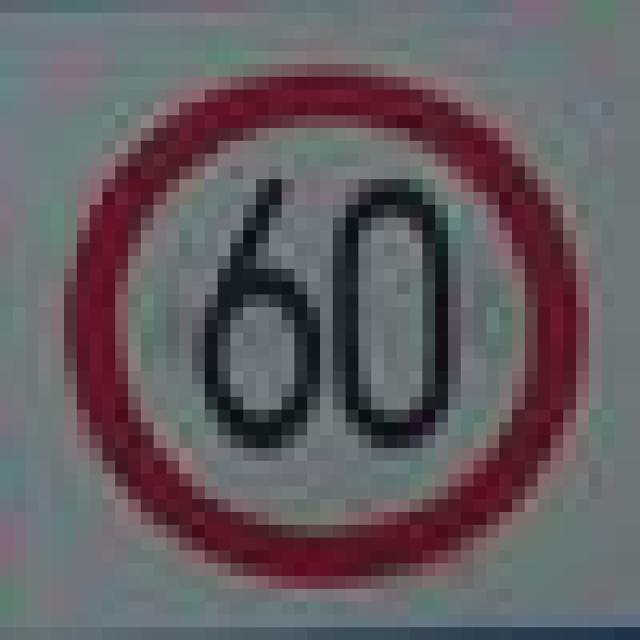speed_limit_40: (51, 39, 576, 564)
